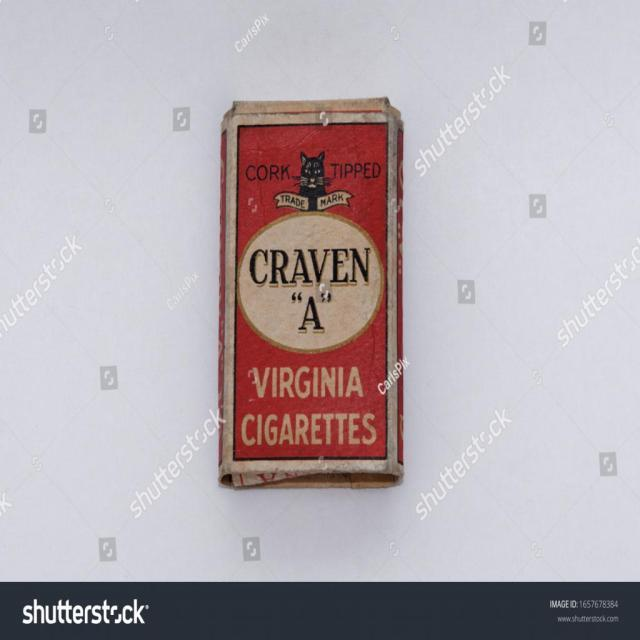smoking: (218, 97, 404, 488)
